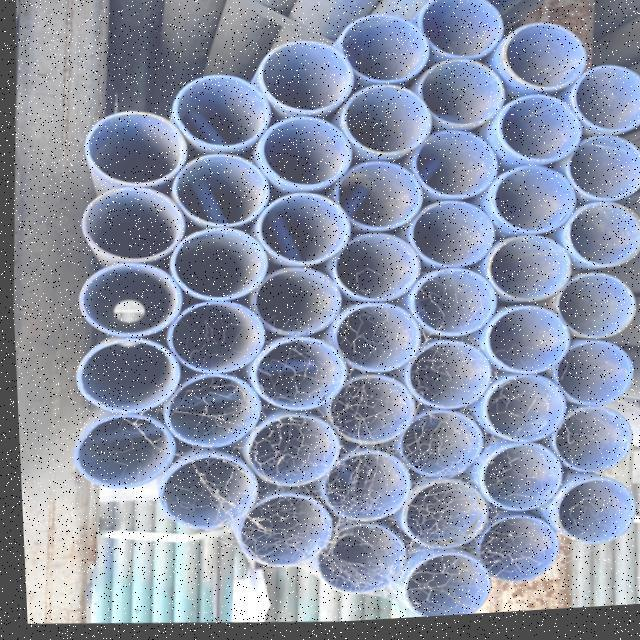pipe: (82, 110, 190, 194), (77, 188, 187, 270), (156, 454, 255, 539), (73, 338, 177, 415), (69, 413, 169, 493), (168, 77, 273, 153), (170, 155, 274, 230), (255, 42, 355, 120), (333, 15, 431, 94), (241, 416, 340, 493), (74, 266, 178, 339), (256, 194, 354, 271), (338, 88, 437, 164), (163, 229, 265, 302), (257, 115, 352, 193), (245, 340, 344, 414), (228, 495, 325, 570), (160, 300, 261, 372), (310, 523, 401, 602), (161, 377, 256, 452), (416, 60, 509, 135), (315, 453, 408, 525), (332, 164, 424, 236), (329, 236, 420, 308), (486, 168, 577, 239), (249, 269, 339, 340), (319, 376, 410, 446), (411, 130, 498, 203), (392, 482, 478, 554), (329, 306, 416, 377), (407, 270, 494, 341), (404, 205, 492, 275), (402, 345, 491, 414), (485, 240, 572, 310), (479, 310, 568, 378), (497, 96, 581, 168), (394, 558, 488, 622), (394, 411, 481, 480), (477, 377, 562, 447), (468, 518, 553, 586), (548, 408, 630, 478), (473, 447, 556, 516), (503, 30, 585, 99), (421, 0, 505, 66), (549, 483, 630, 550), (562, 140, 640, 207), (554, 281, 633, 347), (550, 348, 630, 413), (565, 207, 640, 275), (573, 71, 640, 140)
